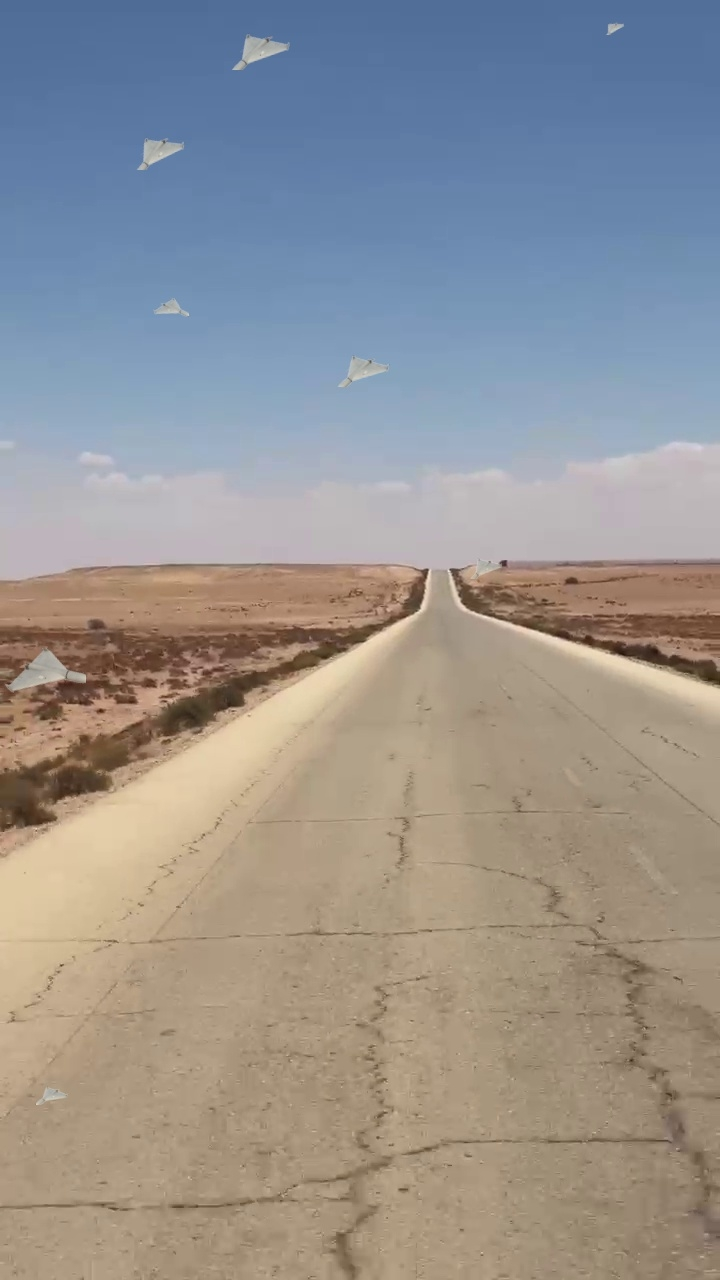shahed: (4, 648, 86, 696), (226, 33, 290, 70), (128, 136, 187, 170), (334, 354, 390, 386), (467, 558, 503, 580), (154, 299, 190, 319), (35, 1086, 68, 1104), (603, 22, 625, 34)
